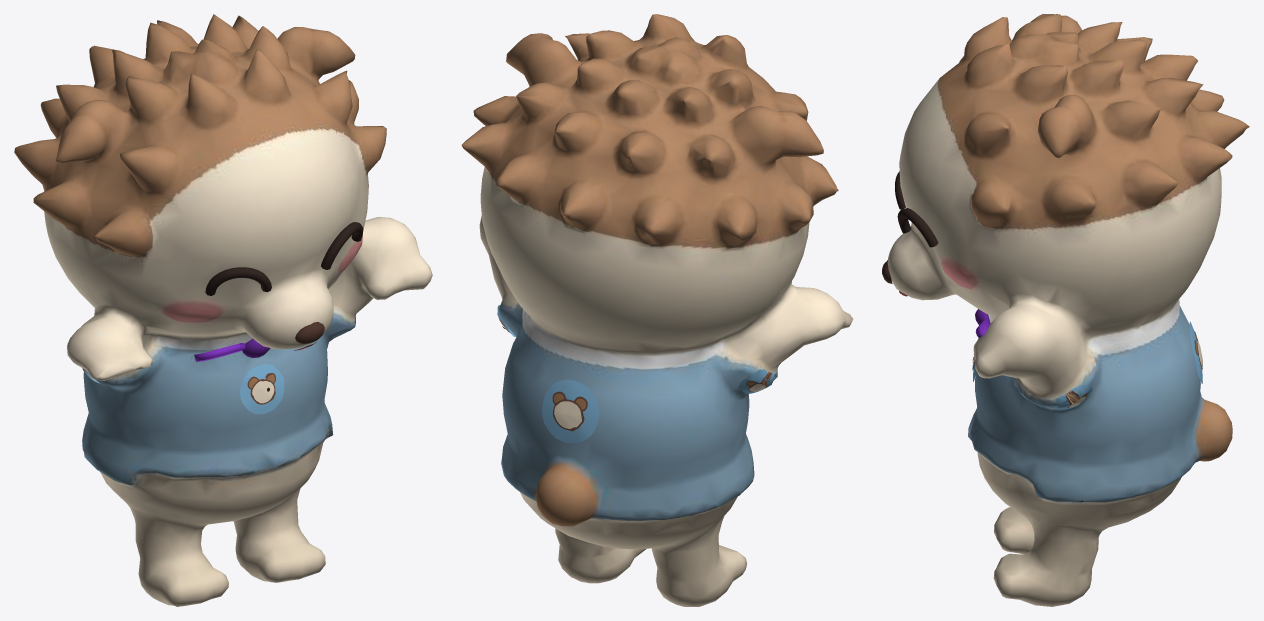
The model's file is hedgehog-pose.glb.
The picture shows the model from 3 angles, left to right: view 1: azimuth 30°, elevation 25°; view 2: azimuth 150°, elevation 25°; view 3: azimuth 270°, elevation 25°; orthographic projection. The views are drawn at different scales.
Parts seen in each view (by area): view 1: chibi, face; view 2: chibi, face; view 3: chibi, face.
Part boxes in pixels (<box>): chibi: <box>14,14,432,606</box>; face: <box>82,222,363,414</box>; chibi: <box>461,14,853,606</box>; face: <box>497,305,776,443</box>; chibi: <box>887,14,1249,606</box>; face: <box>882,171,1202,409</box>.
Bounding box in the file's own units: 0.8347 × 1.25 × 0.7697.
Materials: 31 (1 with a texture image).
